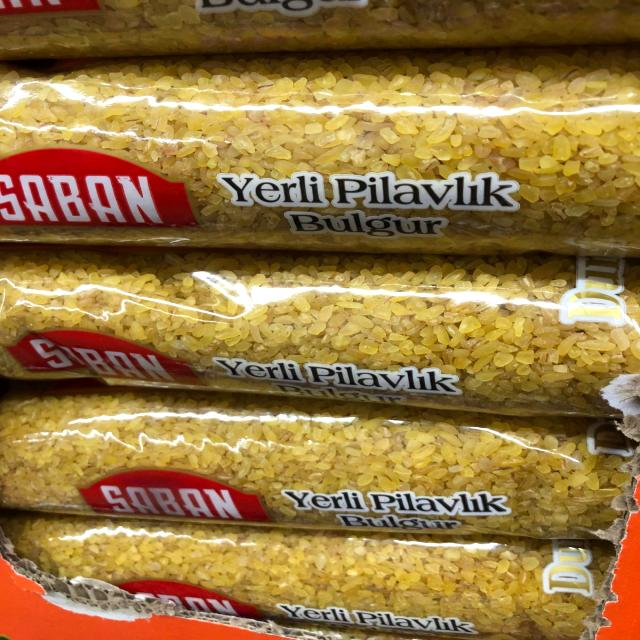bulgur: (0, 54, 640, 253), (0, 245, 640, 406), (0, 385, 640, 535), (0, 503, 640, 637)
